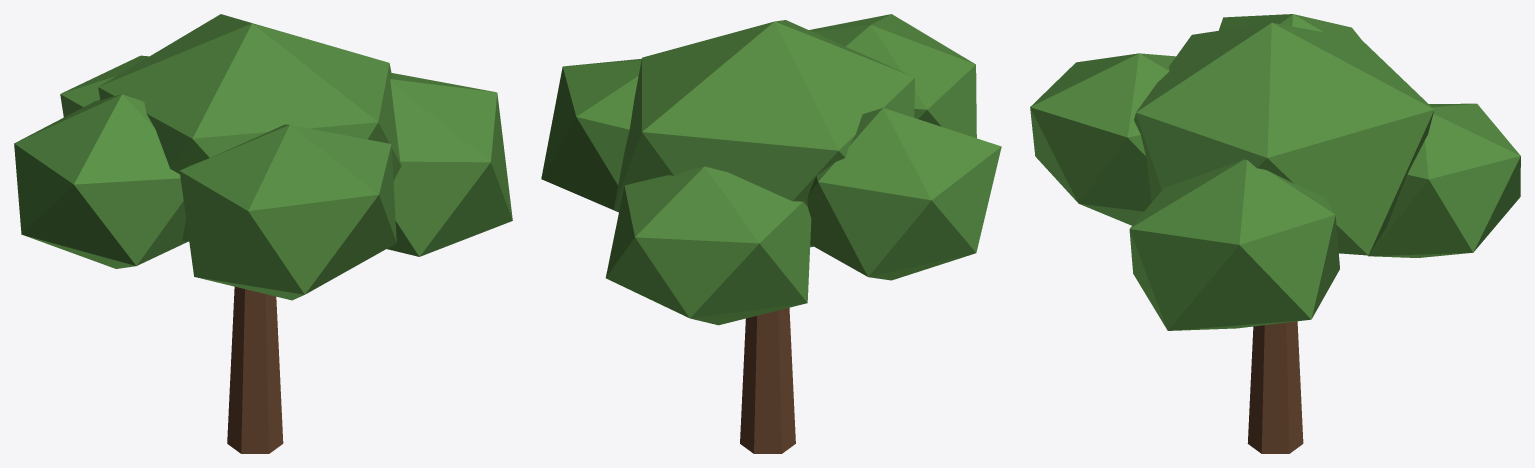
Rendered from Oak_A.glb.
The picture shows the model from 3 angles, left to right: view 1: azimuth 30°, elevation 25°; view 2: azimuth 150°, elevation 25°; view 3: azimuth 270°, elevation 25°; orthographic projection.
Parts seen in each view (by area): view 1: Oak_A; view 2: Oak_A; view 3: Oak_A.
Part boxes in pixels (x1,y1,x2,y2): Oak_A: (14,14,512,453); Oak_A: (541,14,1001,453); Oak_A: (1030,14,1520,453).
Bounding box in the file's own units: 6.6 × 5.99 × 6.36.
